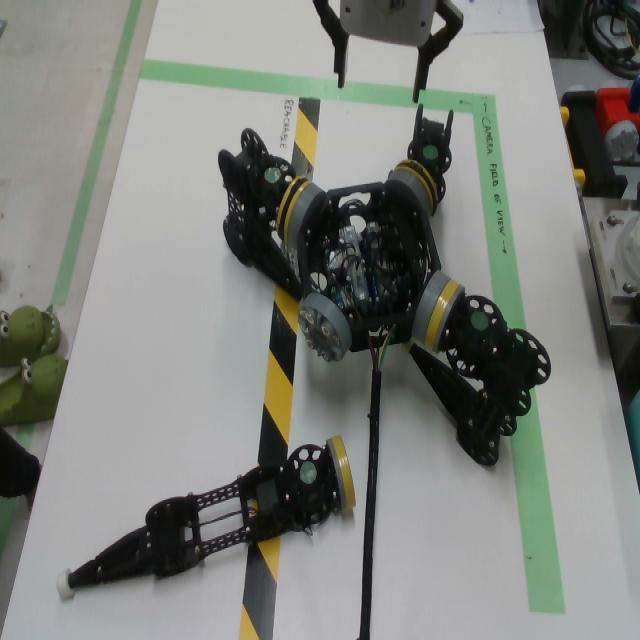body: (297, 183, 442, 353)
body_connector: (298, 293, 352, 363), (411, 271, 451, 344), (286, 184, 325, 248), (385, 171, 432, 216)
gripper: (312, 0, 464, 103)
leg: (54, 435, 356, 601), (401, 280, 551, 467), (218, 128, 311, 304), (395, 104, 454, 216)
leg_connector: (425, 280, 465, 355), (396, 159, 439, 216), (326, 436, 356, 511), (278, 176, 310, 243)
leg_marker: (300, 461, 317, 484), (471, 312, 489, 331), (264, 168, 281, 183), (424, 147, 436, 159)
